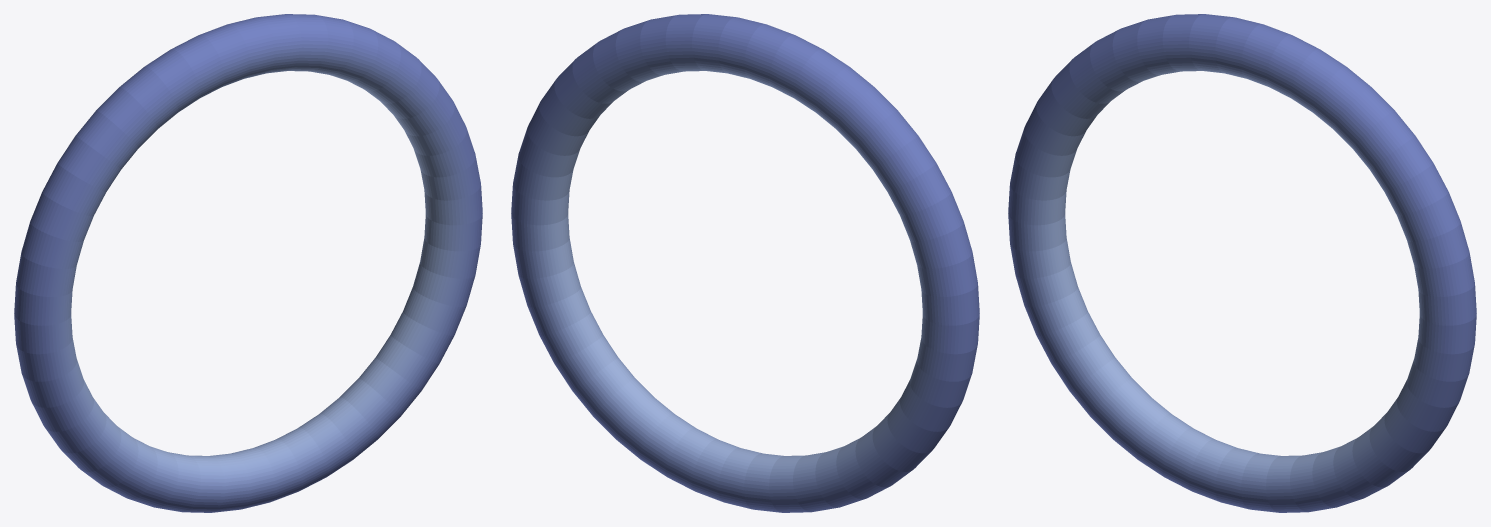
The picture shows the model from 3 angles, left to right: view 1: azimuth 30°, elevation 25°; view 2: azimuth 150°, elevation 25°; view 3: azimuth 330°, elevation 25°; orthographic projection.
Parts seen in each view (by area): view 1: world; view 2: world; view 3: world.
Boxes of the visible parts, box(x1,y1,x2,y2) form: world: box(14, 14, 482, 512); world: box(511, 14, 979, 512); world: box(1008, 14, 1476, 512).
Size of the model in its own units: 26.13 by 26.08 by 2.79.
